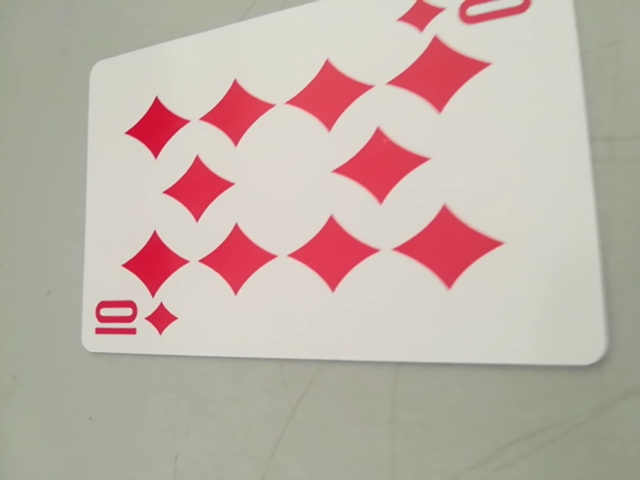fk 10: (397, 0, 553, 42), (87, 293, 182, 351)
